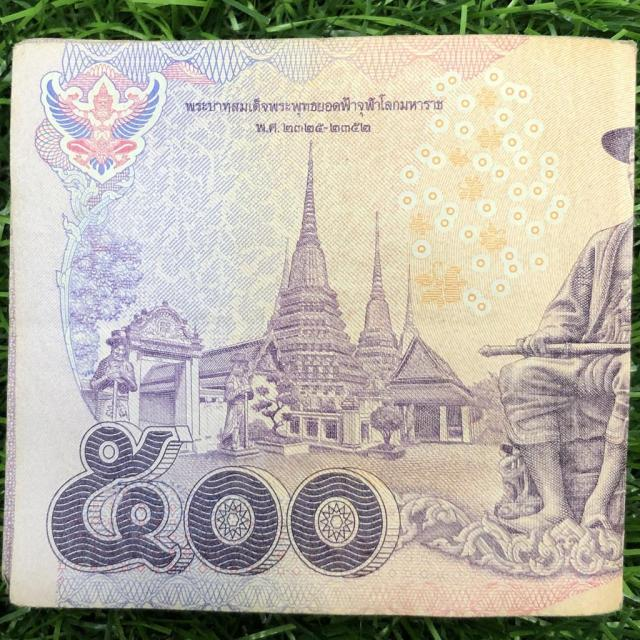THAI500: (2, 35, 636, 617)
